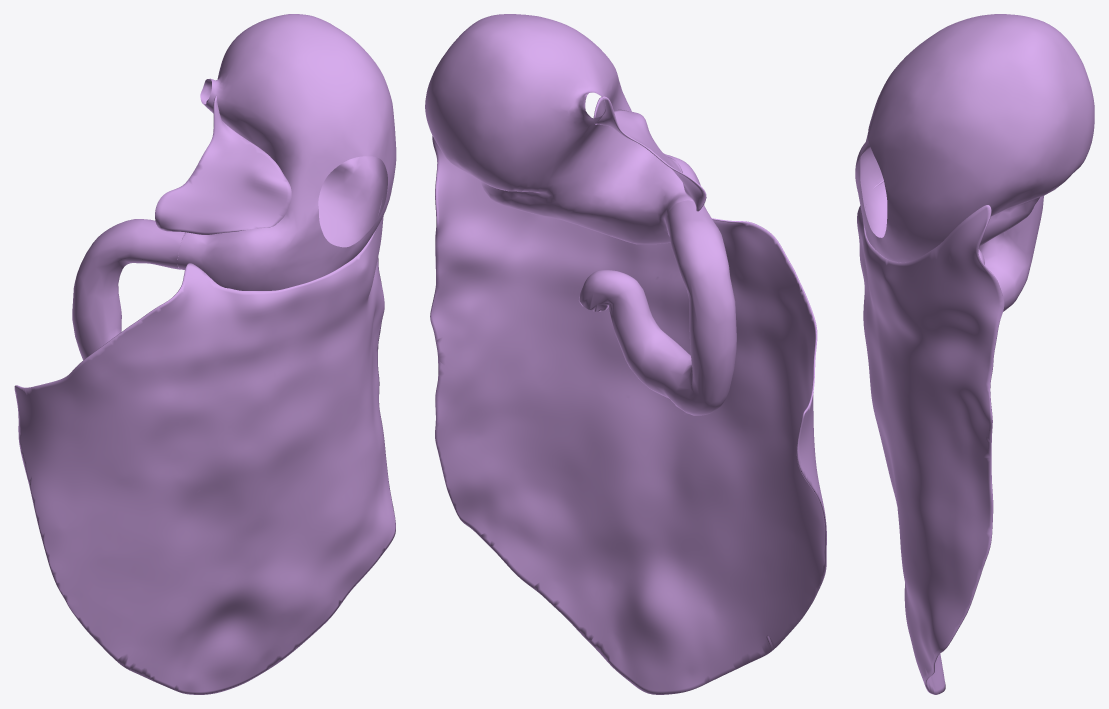
Rendered from stomach_reference.glb.
The picture shows the model from 3 angles, left to right: view 1: azimuth 30°, elevation 25°; view 2: azimuth 150°, elevation 25°; view 3: azimuth 270°, elevation 25°; orthographic projection. The views are drawn at different scales.
Visible parts, largest first — view 1: Greater omentum, Stomach, Lesser omentum, Duodenum; view 2: Greater omentum, Stomach, Duodenum, Lesser omentum; view 3: Greater omentum, Stomach, Duodenum.
Boxes of the visible parts, x1,y1,x2,y2 form: Greater omentum: (14,198,395,694); Stomach: (177,14,396,290); Lesser omentum: (155,96,291,234); Duodenum: (72,219,185,360); Greater omentum: (430,136,826,694); Stomach: (425,14,705,244); Duodenum: (579,200,736,415); Lesser omentum: (593,96,706,211); Greater omentum: (857,180,1004,694); Stomach: (855,14,1094,262); Duodenum: (978,196,1043,311).
Size of the model in its own units: 0.2118 by 0.3496 by 0.1053.
